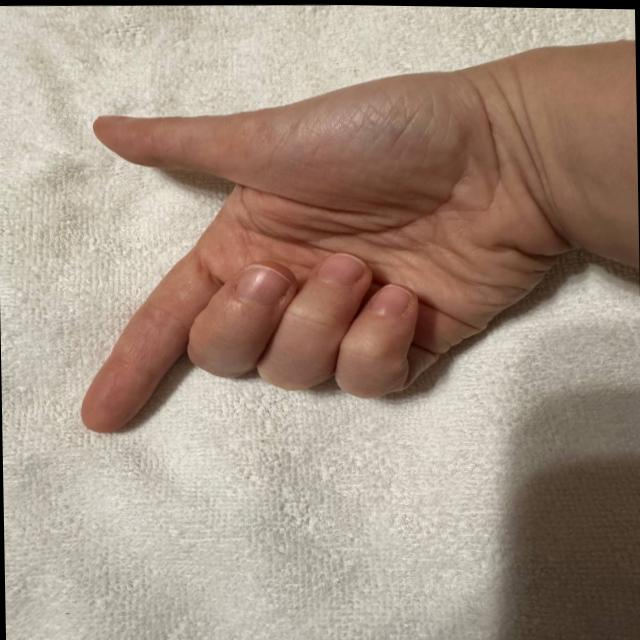g: (69, 66, 496, 462)
